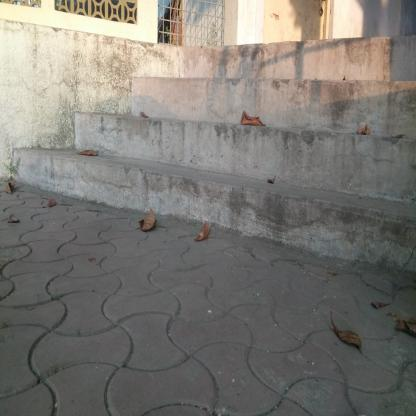stairs: (161, 64, 377, 256)
